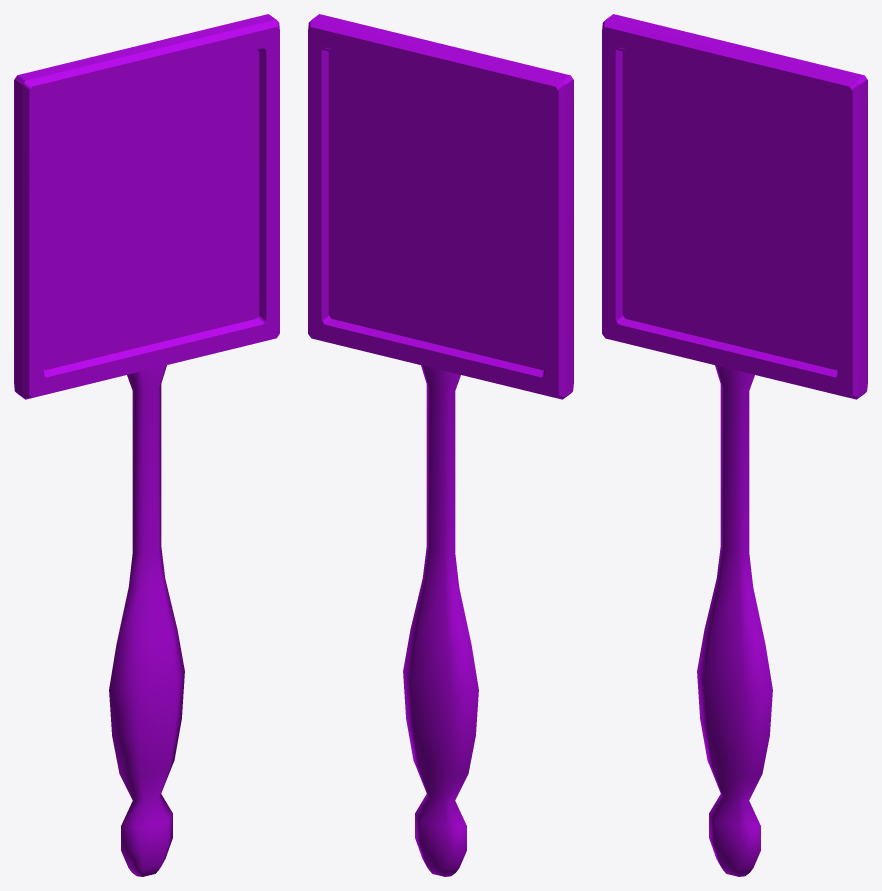
Rendered from Mesh_FlySwatter.fbx.
3 renders of one model, left to right at view 1: azimuth 30°, elevation 25°; view 2: azimuth 150°, elevation 25°; view 3: azimuth 330°, elevation 25°, orthographic.
Parts seen in each view (by area): view 1: SwatterHead_Mesh, SwatterHandle_Mesh; view 2: SwatterHead_Mesh, SwatterHandle_Mesh; view 3: SwatterHead_Mesh, SwatterHandle_Mesh.
Part boxes in pixels (x1,y1,x2,y2): SwatterHead_Mesh: [14, 14, 279, 399]; SwatterHandle_Mesh: [109, 365, 184, 876]; SwatterHead_Mesh: [308, 14, 573, 399]; SwatterHandle_Mesh: [403, 365, 478, 876]; SwatterHead_Mesh: [602, 14, 867, 399]; SwatterHandle_Mesh: [697, 365, 772, 876].
Bounding box in the file's own units: 14.98 × 46.2 × 2.19.
